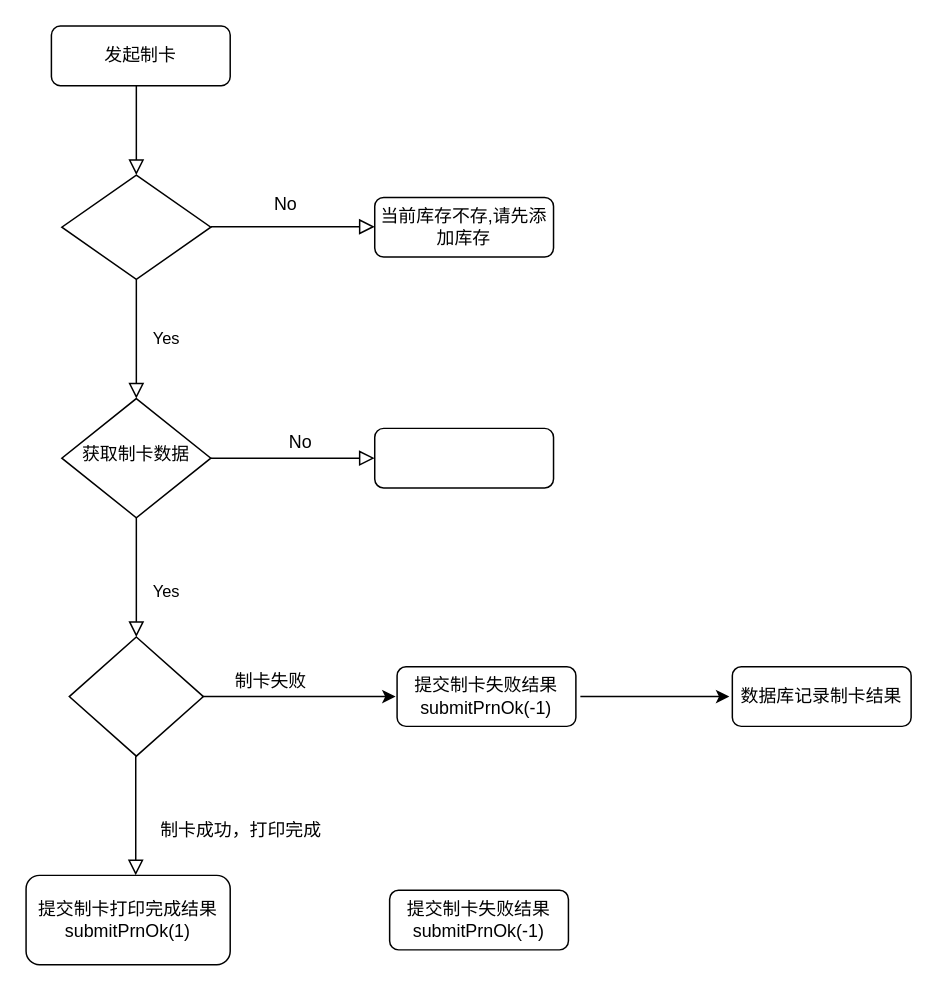
Some shapes in this 937 by 991 pixel diagram are drawn without their labels. Here are the shapes that lost their labels. From the top down, the box of each, then its label:
(60, 174, 211, 279): 检查库存 是否足够
(373, 427, 554, 488): 获取制卡数据失败
(68, 635, 203, 756): 调用控件制卡
